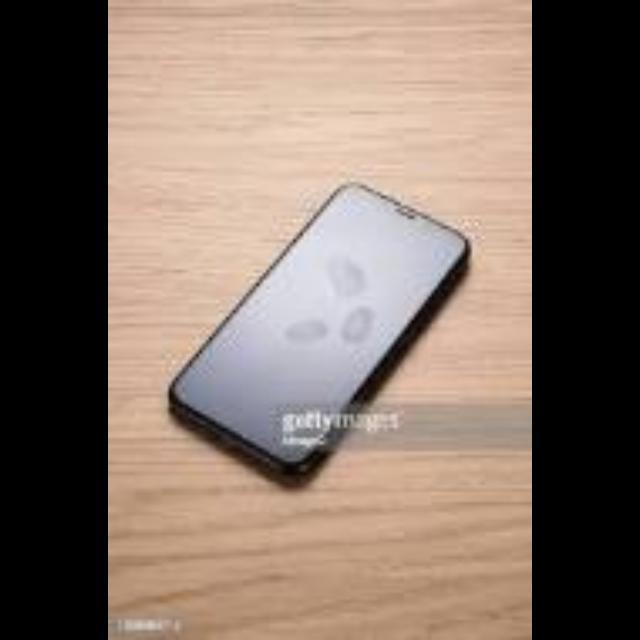PhoneUse: (170, 184, 470, 476)
